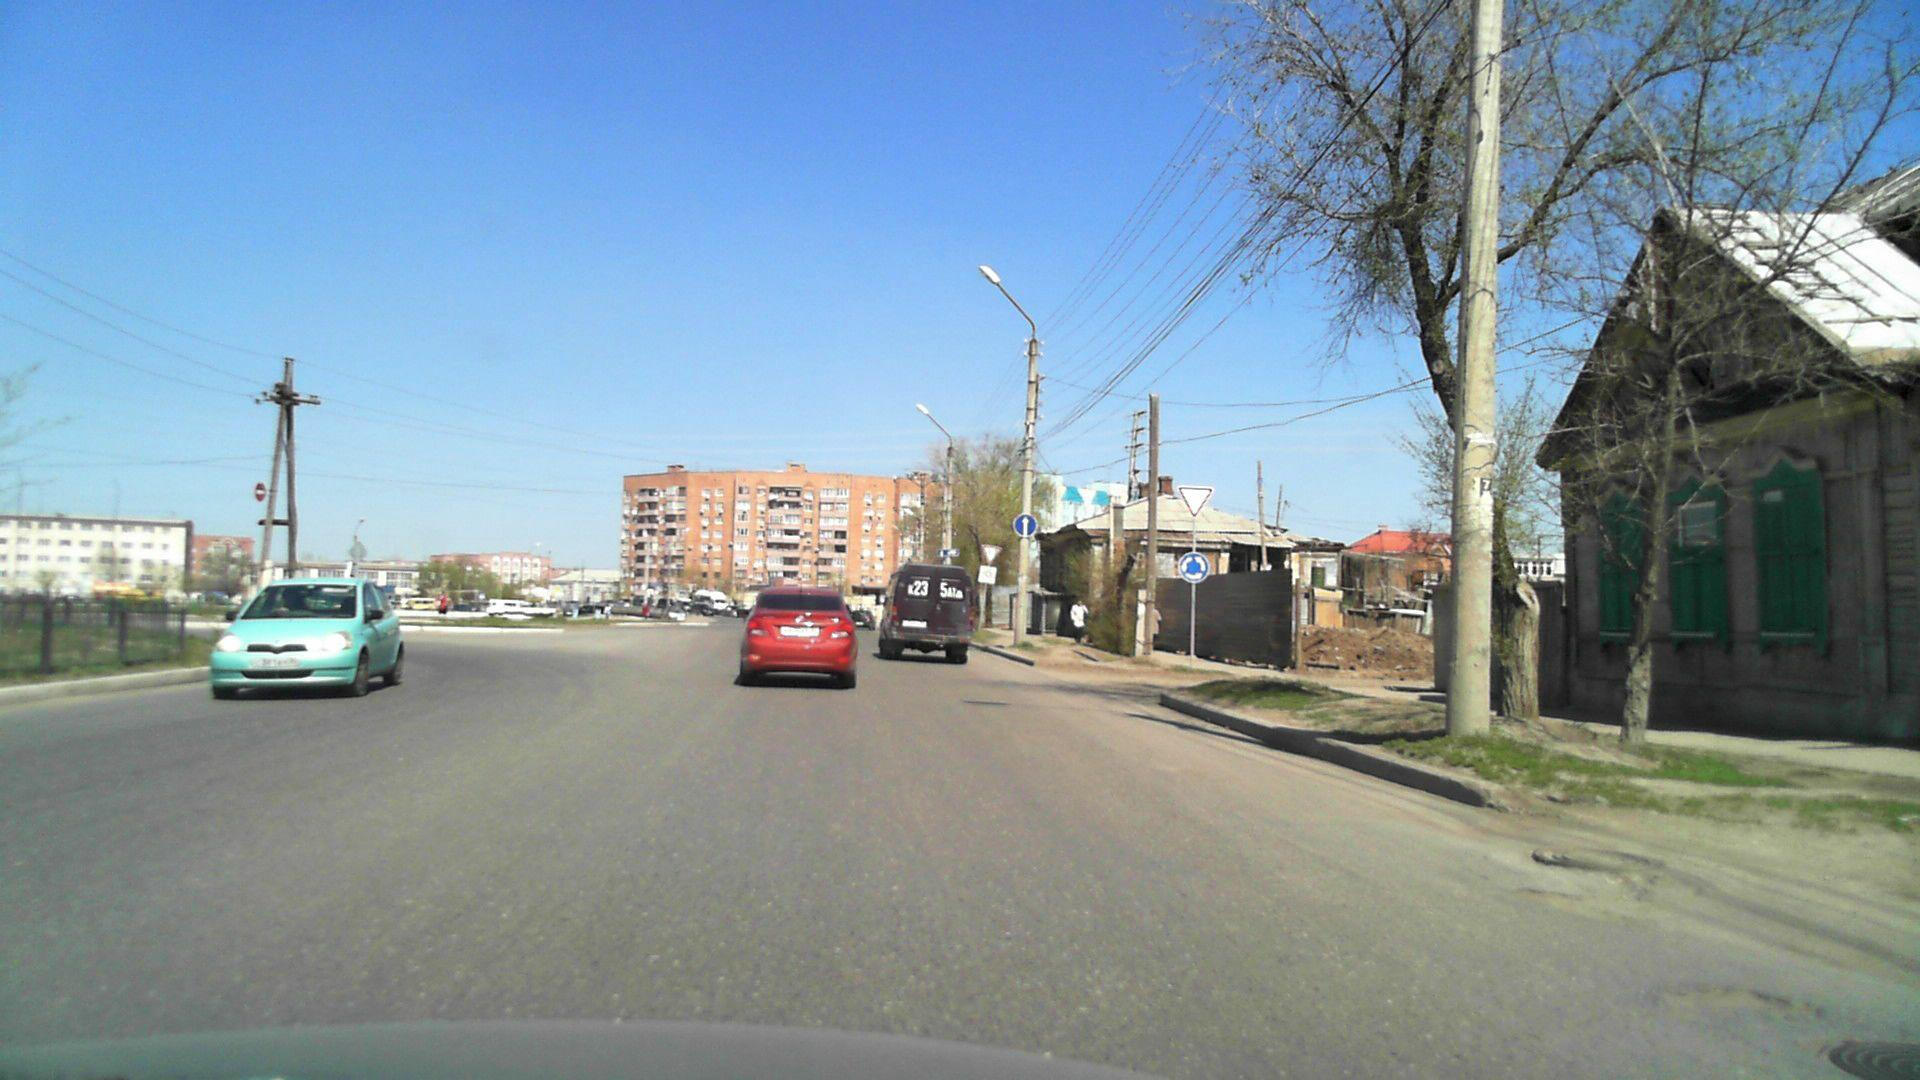2_4: (1176, 485, 1215, 516), (980, 542, 1002, 564)
3_1: (253, 483, 268, 500)
4_1_1: (1011, 514, 1038, 539)
4_3: (1178, 553, 1209, 582)
6_15_1: (938, 549, 960, 558)
8_13: (978, 564, 997, 584)
